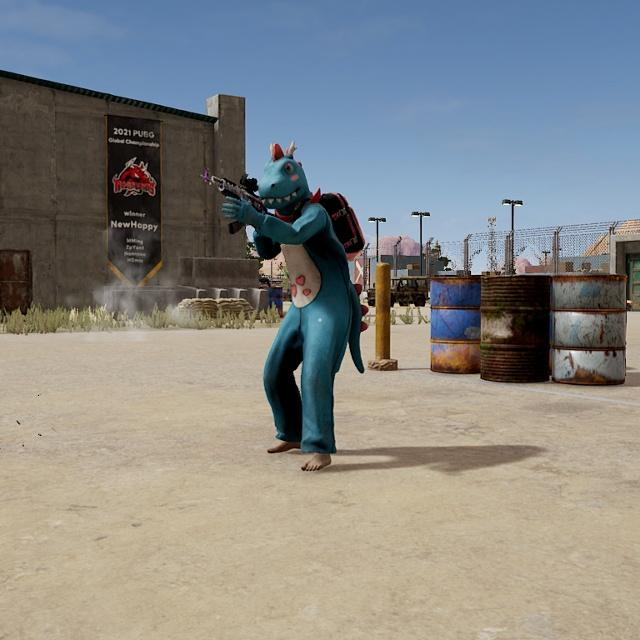head: (250, 146, 315, 222)
people: (231, 139, 371, 480)
